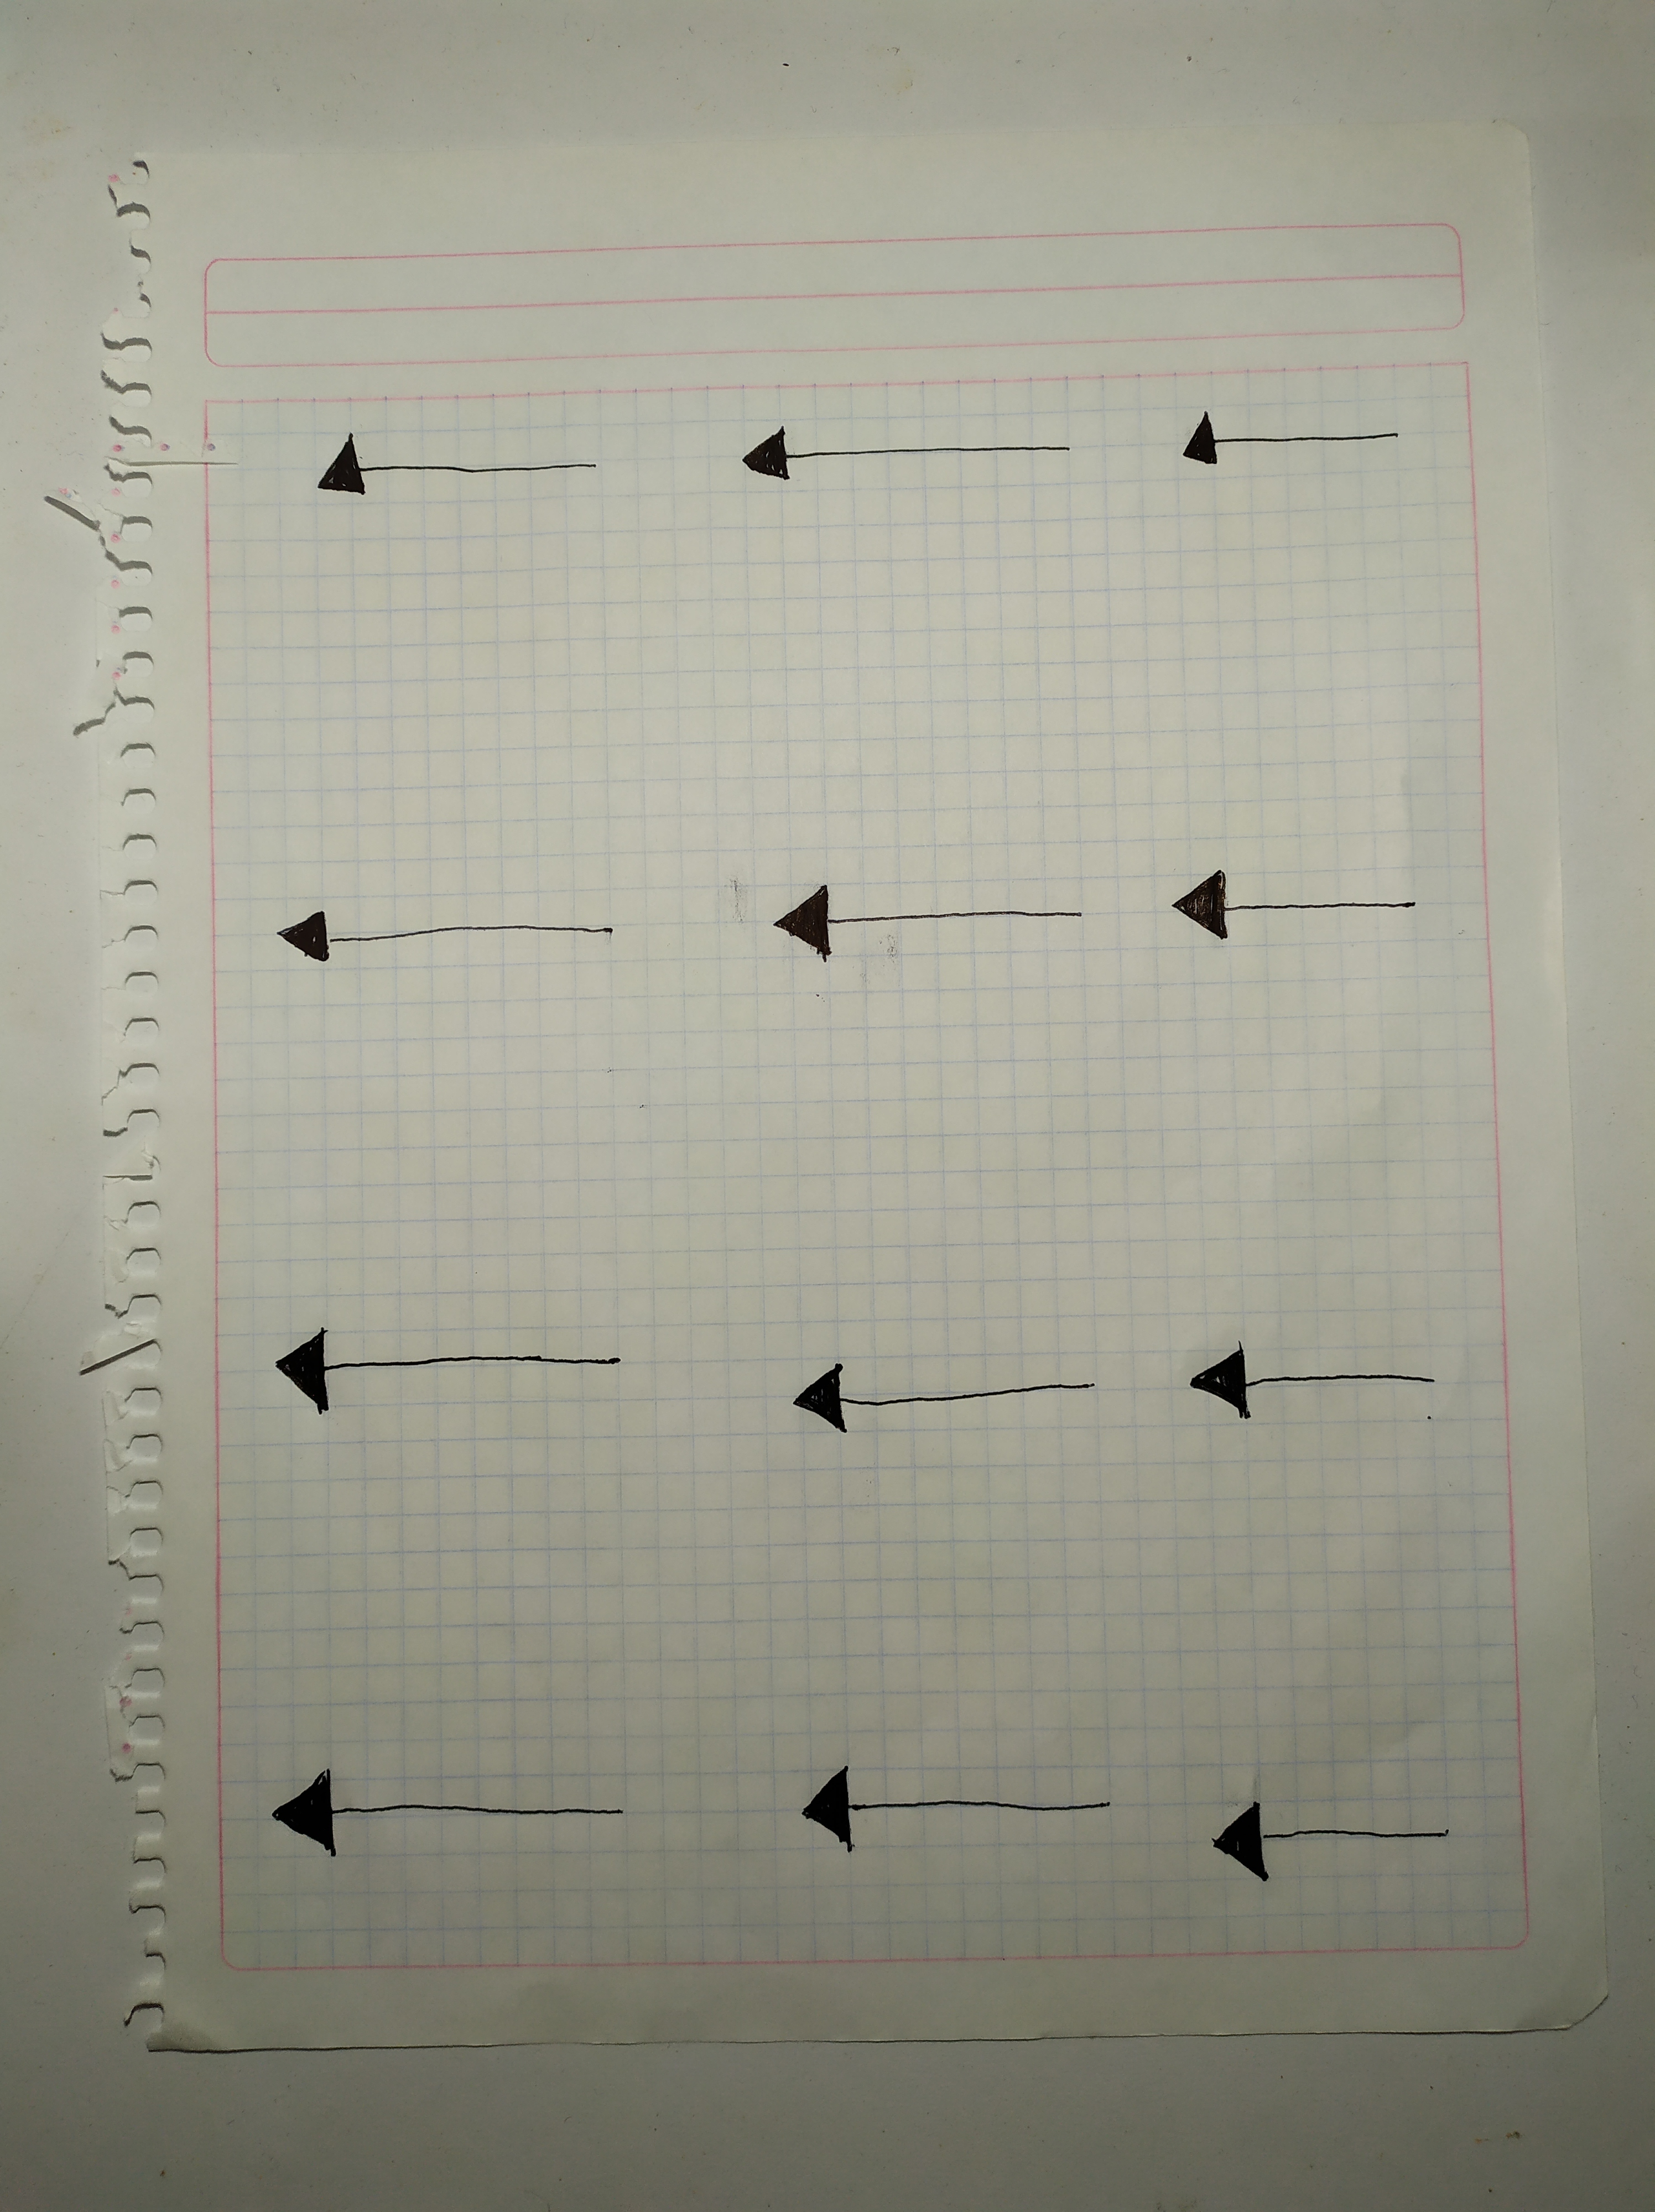arrow_line_left: (774, 1741, 1151, 1885), (236, 1315, 673, 1434), (233, 1755, 640, 1877), (236, 890, 645, 992), (737, 855, 1095, 970), (708, 412, 1111, 511), (1154, 1328, 1472, 1435), (275, 405, 602, 509), (761, 1357, 1132, 1447), (1142, 851, 1429, 968), (1191, 1786, 1486, 1889), (1161, 403, 1431, 474)
